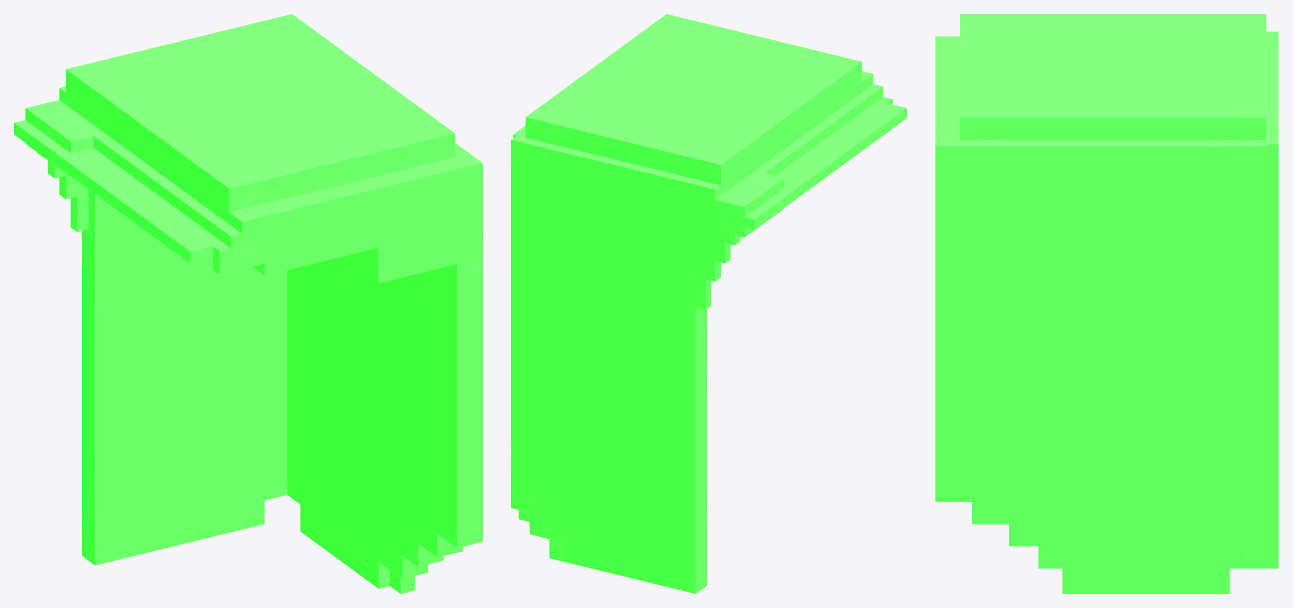
Rendered from side_part_green.glb.
3 renders of one model, left to right at view 1: azimuth 30°, elevation 25°; view 2: azimuth 150°, elevation 25°; view 3: azimuth 270°, elevation 25°, orthographic. The views are drawn at different scales.
Parts seen in each view (by area): view 1: fem_side_part_uw; view 2: fem_side_part_uw; view 3: fem_side_part_uw.
Part boxes in pixels (<box>): fem_side_part_uw: <box>14,14,482,593</box>; fem_side_part_uw: <box>511,14,906,593</box>; fem_side_part_uw: <box>935,14,1278,593</box>.
Bounding box in the file's own units: 2.53 × 4.23 × 2.8.
1 material, 1 textured.
